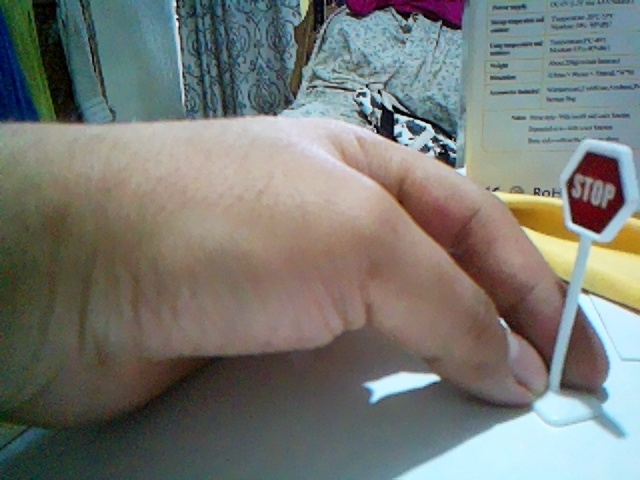stop_sign: (561, 140, 637, 239)
